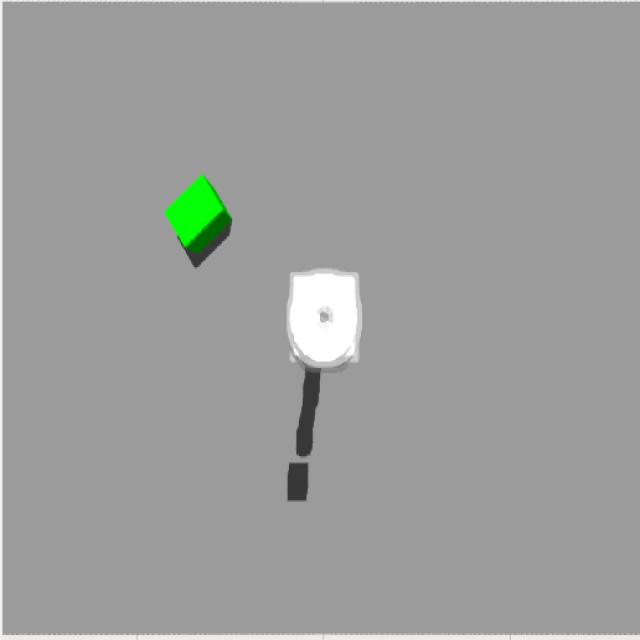box: (166, 176, 231, 267)
